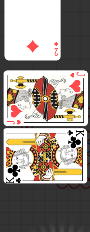JH: (69, 71, 86, 78)
KC: (65, 129, 85, 138)
